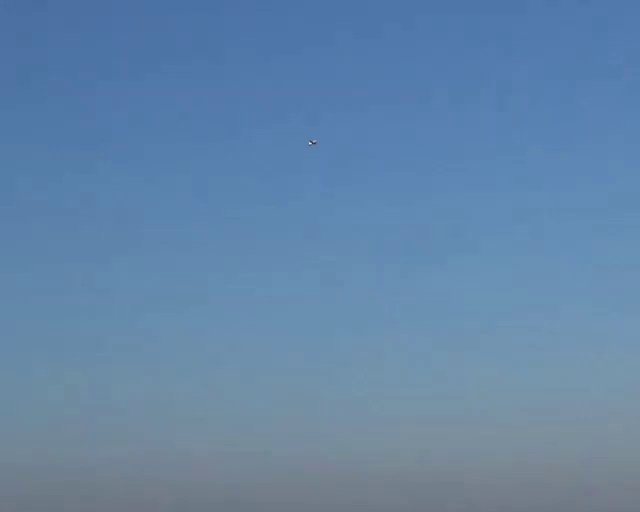AIRPLANE: (270, 105, 291, 123)
